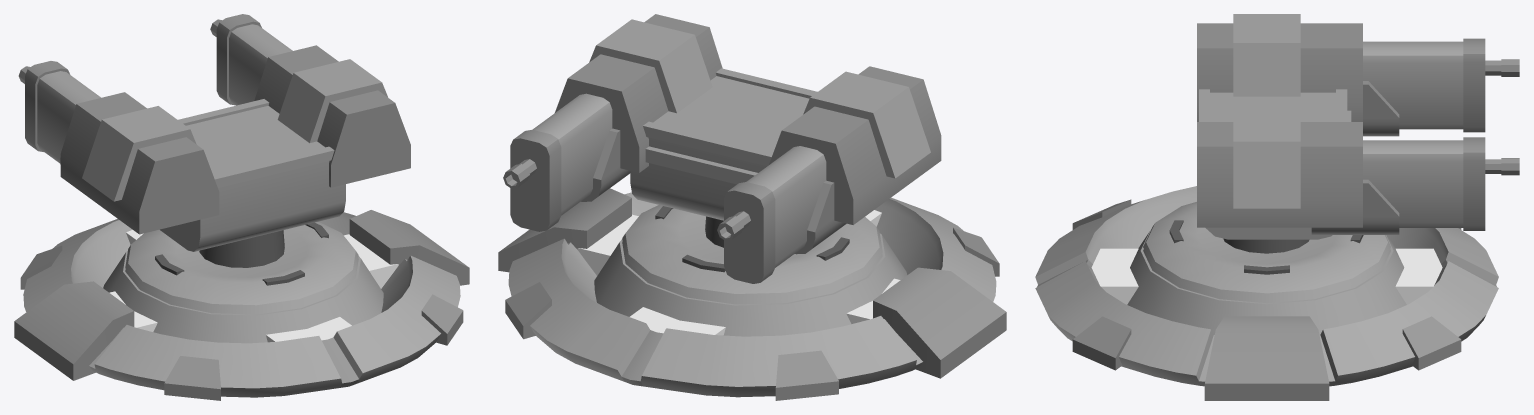
Rendered from defender_vx.glb.
3 renders of one model, left to right at view 1: azimuth 30°, elevation 25°; view 2: azimuth 150°, elevation 25°; view 3: azimuth 270°, elevation 25°, orthographic. The views are drawn at different scales.
Parts seen in each view (by area): view 1: Body, Turret; view 2: Body, Turret; view 3: Body, Turret.
Part boxes in pixels (x1,y1,x2,y2): Body: [14, 210, 469, 400]; Turret: [18, 14, 410, 267]; Body: [498, 188, 1006, 400]; Turret: [503, 14, 941, 283]; Body: [1035, 186, 1498, 400]; Turret: [1197, 14, 1519, 253].
Size of the model in its own units: 7.89 by 4 by 7.94.
Materials: 2 (1 with a texture image).
